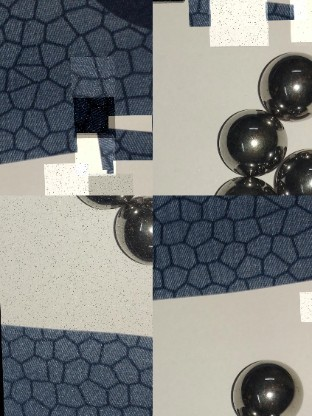ironball: (219, 108, 285, 175), (230, 358, 308, 414), (258, 51, 310, 118), (111, 198, 154, 262), (279, 145, 310, 197), (210, 175, 280, 193)
